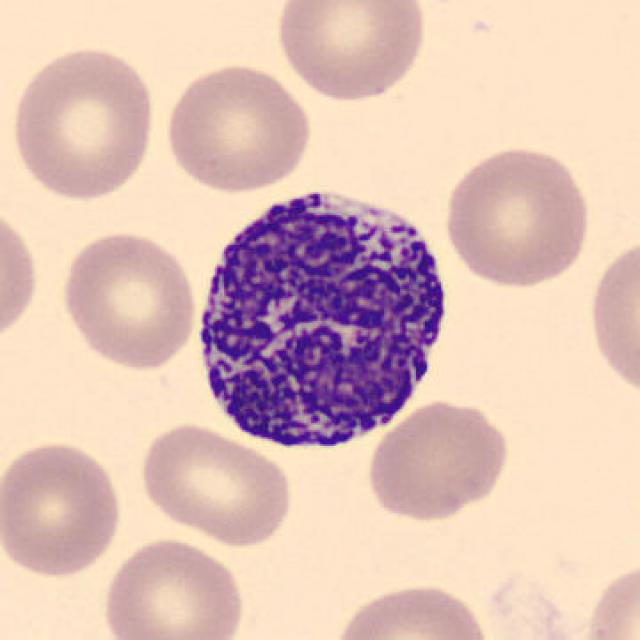Basophil: (182, 169, 462, 462)
RBC: (7, 42, 160, 204), (439, 141, 596, 291), (160, 60, 315, 196), (57, 226, 201, 372), (135, 420, 297, 548), (363, 396, 512, 524), (0, 436, 126, 580), (270, 0, 430, 104), (99, 534, 249, 640), (327, 578, 493, 640), (585, 229, 638, 404), (0, 201, 43, 353), (579, 555, 640, 639)
